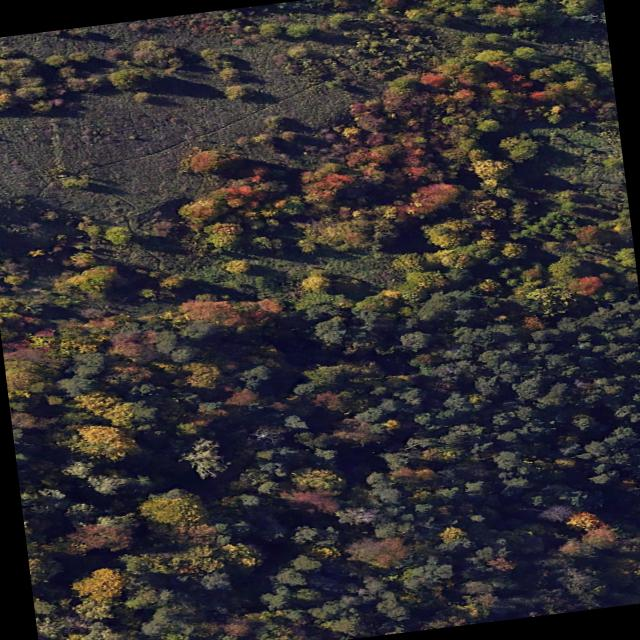grass: (0, 23, 333, 219)
tree: (0, 0, 640, 640), (0, 50, 108, 110), (103, 38, 180, 103), (199, 44, 253, 95), (45, 162, 91, 188)
